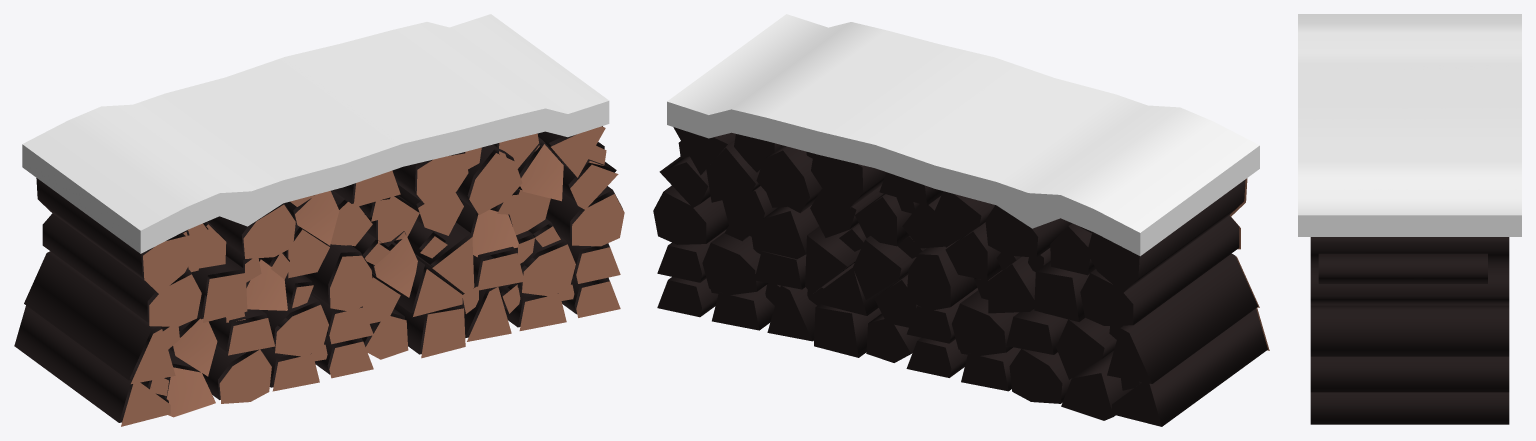
File: firewood.FBX
3 renders of one model, left to right at view 1: azimuth 30°, elevation 25°; view 2: azimuth 150°, elevation 25°; view 3: azimuth 270°, elevation 25°, orthographic. The views are drawn at different scales.
Parts seen in each view (by area): view 1: snow065, Object016, woodC004; view 2: woodC004, snow065; view 3: snow065, woodC004.
Part boxes in pixels (x1,y1,x2,y2): snow065: [22, 14, 609, 253]; Object016: [121, 126, 624, 426]; woodC004: [14, 126, 622, 422]; woodC004: [653, 127, 1267, 426]; snow065: [667, 14, 1259, 256]; snow065: [1298, 14, 1521, 236]; woodC004: [1310, 237, 1509, 424].
Size of the model in its own units: 182 by 78.87 by 74.27.
